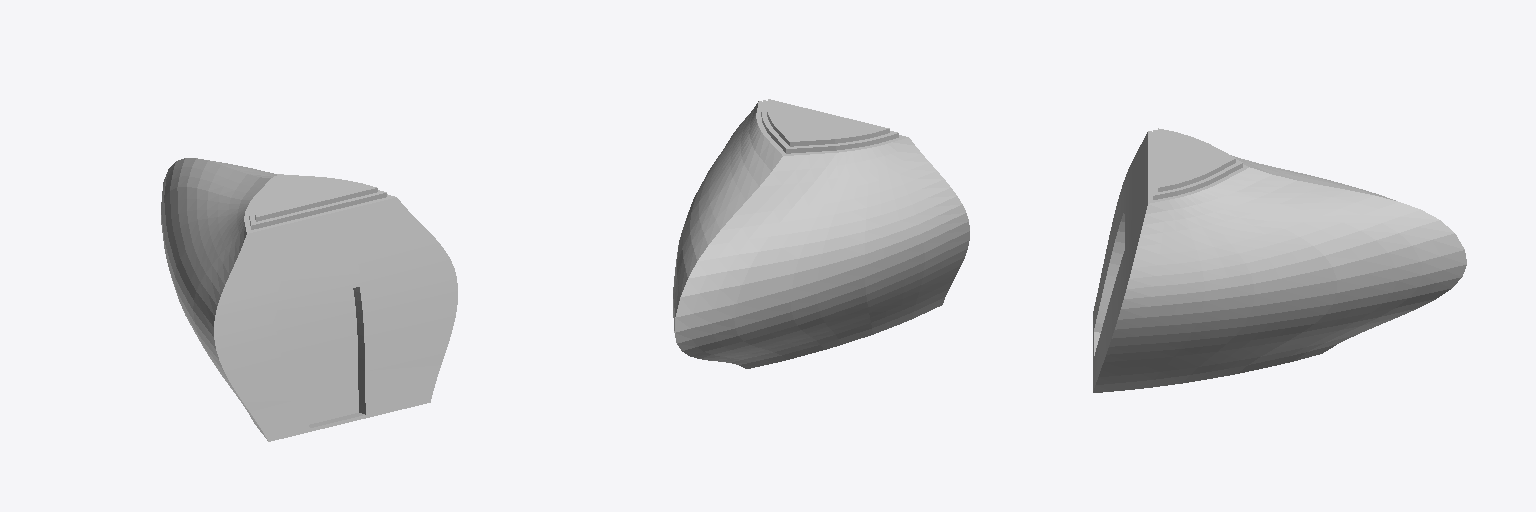
The model's file is cabine.obj.
3 renders of one model, left to right at view 1: azimuth 30°, elevation 25°; view 2: azimuth 150°, elevation 25°; view 3: azimuth 270°, elevation 25°, orthographic.
Parts seen in each view (by area): view 1: Cabin; view 2: Cabin; view 3: Cabin.
Boxes of the visible parts, x1=… form: Cabin: x1=161, y1=158, x2=457, y2=441; Cabin: x1=673, y1=99, x2=969, y2=368; Cabin: x1=1093, y1=128, x2=1466, y2=392.
Size of the model in its own units: 12.61 by 9.7 by 16.82.